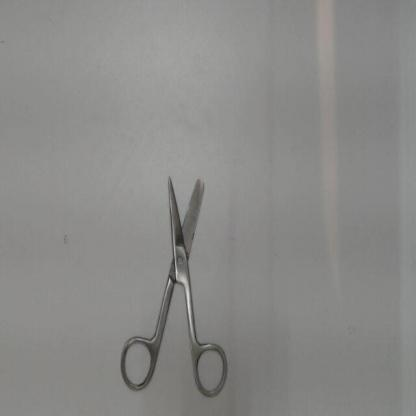Dressing Scissors: (113, 154, 234, 404)
